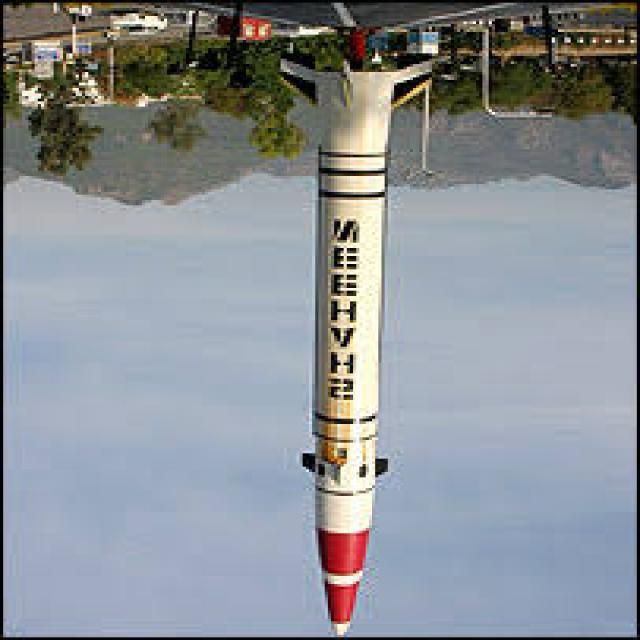missile: (293, 64, 412, 629)
